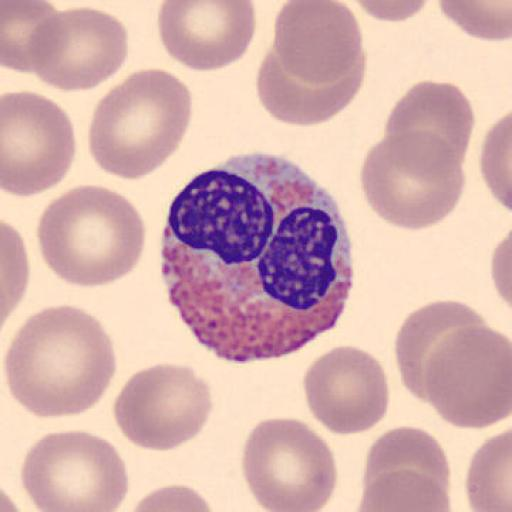RBC: (259, 4, 367, 128), (3, 304, 118, 420), (35, 181, 148, 290), (87, 65, 193, 180), (358, 129, 466, 232), (255, 42, 367, 128), (240, 414, 338, 512), (395, 299, 488, 401), (112, 360, 215, 452), (424, 324, 512, 430), (18, 429, 130, 512), (28, 5, 130, 94), (382, 78, 476, 170), (272, 0, 366, 89), (1, 89, 77, 199), (301, 344, 390, 436), (360, 424, 452, 510), (156, 0, 258, 72), (355, 468, 453, 512), (2, 0, 61, 72), (465, 426, 512, 512), (479, 109, 512, 217), (0, 219, 30, 330), (436, 0, 512, 42), (126, 482, 214, 512), (348, 0, 436, 23), (490, 224, 512, 312), (0, 481, 24, 512)
WBC: (161, 155, 354, 364)
